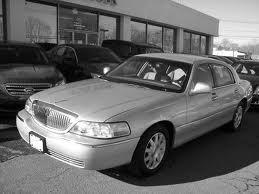car: (16, 52, 259, 174)
